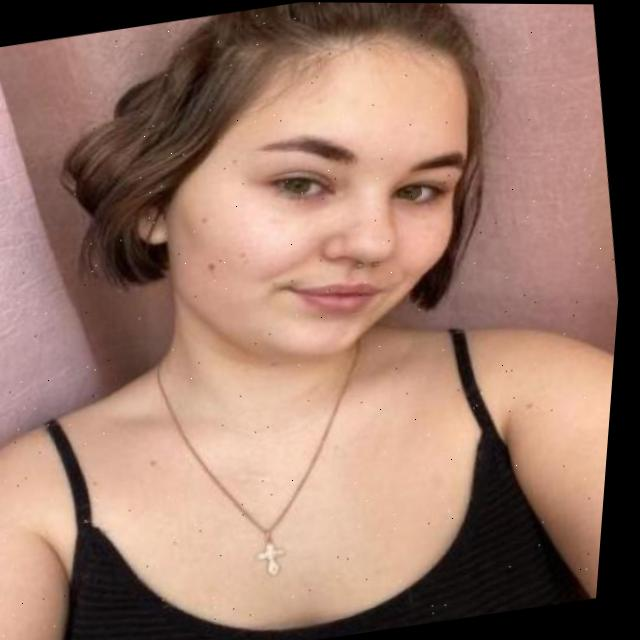Acne: (188, 203, 279, 281)
